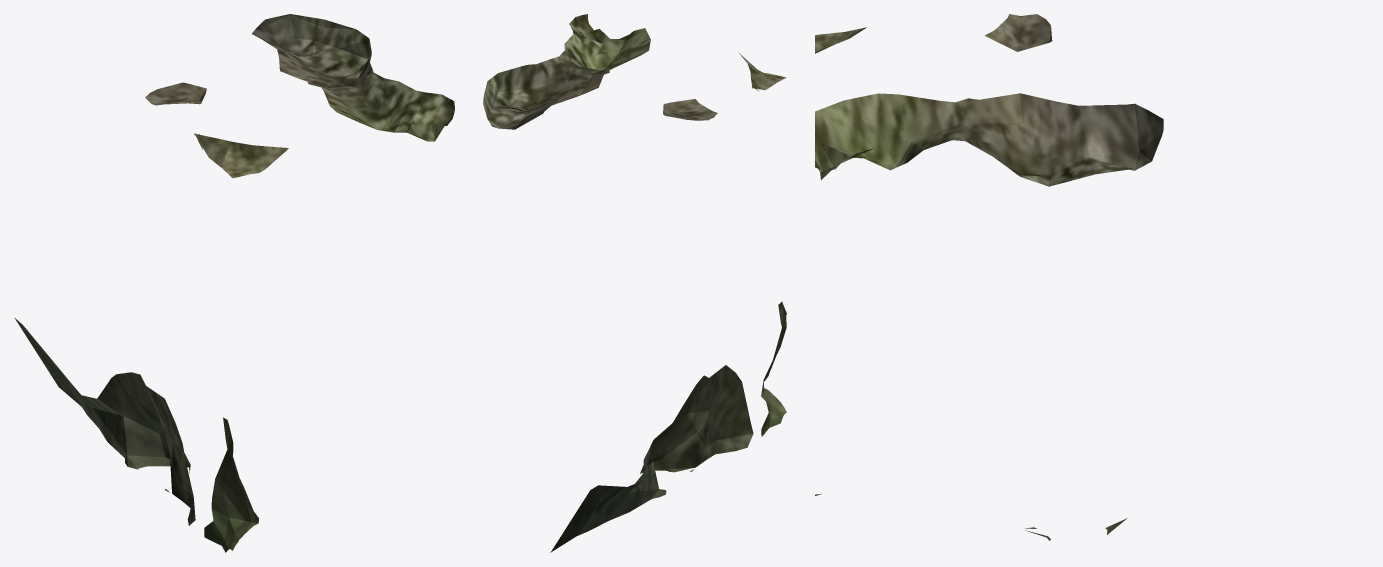
3 views of the same model, side by side, from view 1: azimuth 30°, elevation 25°; view 2: azimuth 150°, elevation 25°; view 3: azimuth 270°, elevation 25° (orthographic). The views are drawn at different scales.
Size of the model in its own units: 1.78 by 2.95 by 2.95.
Materials: 1 (1 with a texture image).
